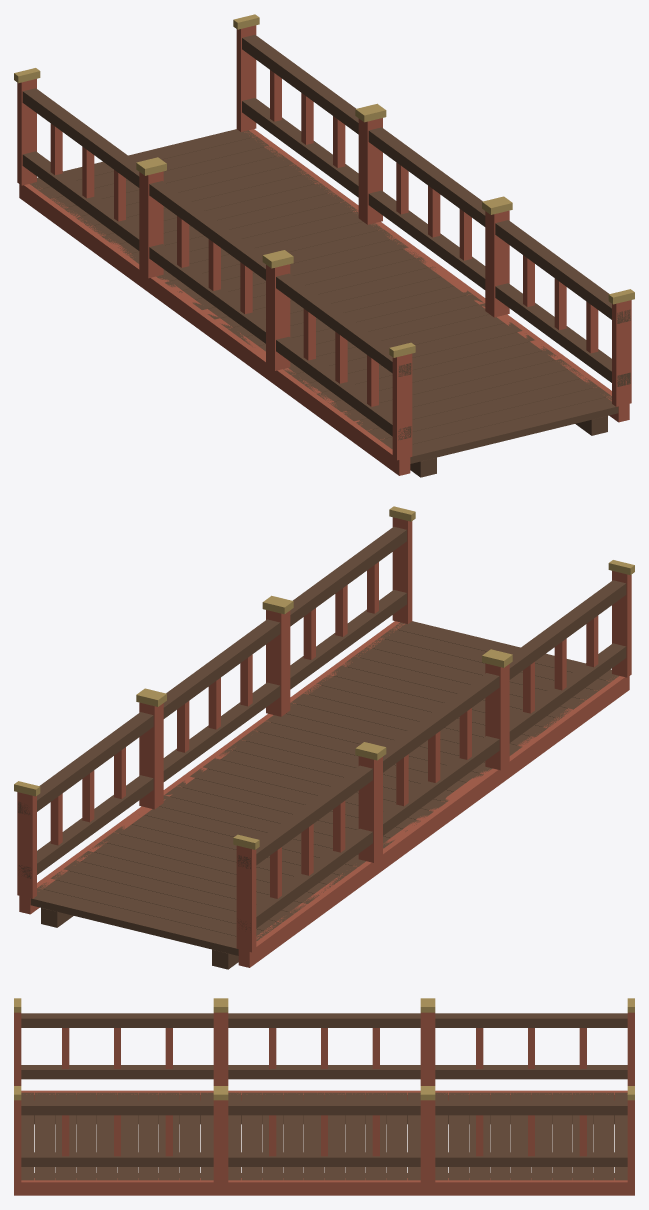
File: prefab-bridge.glb
3 views of the same model, one above another, from view 1: azimuth 30°, elevation 25°; view 2: azimuth 150°, elevation 25°; view 3: azimuth 270°, elevation 25° (orthographic). The views are drawn at different scales.
Visible parts, largest first — view 1: prefab-bridge__deck2, prefab-bridge__deck0, prefab-bridge__deck1, prefab-bridge__railL2, prefab-bridge__railR2, prefab-bridge__railR0, prefab-bridge__railR1, prefab-bridge__railL1, prefab-bridge__railL0; view 2: prefab-bridge__deck0, prefab-bridge__deck2, prefab-bridge__deck1, prefab-bridge__railL0, prefab-bridge__railR0, prefab-bridge__railR2, prefab-bridge__railR1, prefab-bridge__railL1, prefab-bridge__railL2; view 3: prefab-bridge__deck0, prefab-bridge__deck1, prefab-bridge__deck2, prefab-bridge__railR0, prefab-bridge__railR1, prefab-bridge__railR2, prefab-bridge__railL0, prefab-bridge__railL1, prefab-bridge__railL2.
Part boxes in pixels (<box>): prefab-bridge__deck2: <box>272,314,629,477</box>; prefab-bridge__deck0: <box>19,129,362,290</box>; prefab-bridge__deck1: <box>146,221,489,382</box>; prefab-bridge__railL2: <box>267,253,415,460</box>; prefab-bridge__railR2: <box>486,199,634,406</box>; prefab-bridge__railR0: <box>233,14,381,221</box>; prefab-bridge__railR1: <box>360,107,507,313</box>; prefab-bridge__railL1: <box>140,160,288,367</box>; prefab-bridge__railL0: <box>14,68,161,274</box>; prefab-bridge__deck0: <box>19,806,376,969</box>; prefab-bridge__deck2: <box>286,621,629,782</box>; prefab-bridge__deck1: <box>159,713,502,874</box>; prefab-bridge__railL0: <box>233,745,381,952</box>; prefab-bridge__railR0: <box>14,691,162,898</box>; prefab-bridge__railR2: <box>267,506,415,713</box>; prefab-bridge__railR1: <box>141,599,288,805</box>; prefab-bridge__railL1: <box>360,652,508,859</box>; prefab-bridge__railL2: <box>487,560,634,766</box>; prefab-bridge__deck0: <box>428,1090,634,1195</box>; prefab-bridge__deck1: <box>221,1090,427,1195</box>; prefab-bridge__deck2: <box>14,1090,220,1195</box>; prefab-bridge__railR0: <box>428,1086,634,1183</box>; prefab-bridge__railR1: <box>221,1086,427,1183</box>; prefab-bridge__railR2: <box>14,1086,220,1183</box>; prefab-bridge__railL0: <box>428,998,634,1085</box>; prefab-bridge__railL1: <box>221,998,427,1085</box>; prefab-bridge__railL2: <box>14,998,220,1085</box>.
Bounding box in the file's own units: 2.2 × 1.16 × 6.
